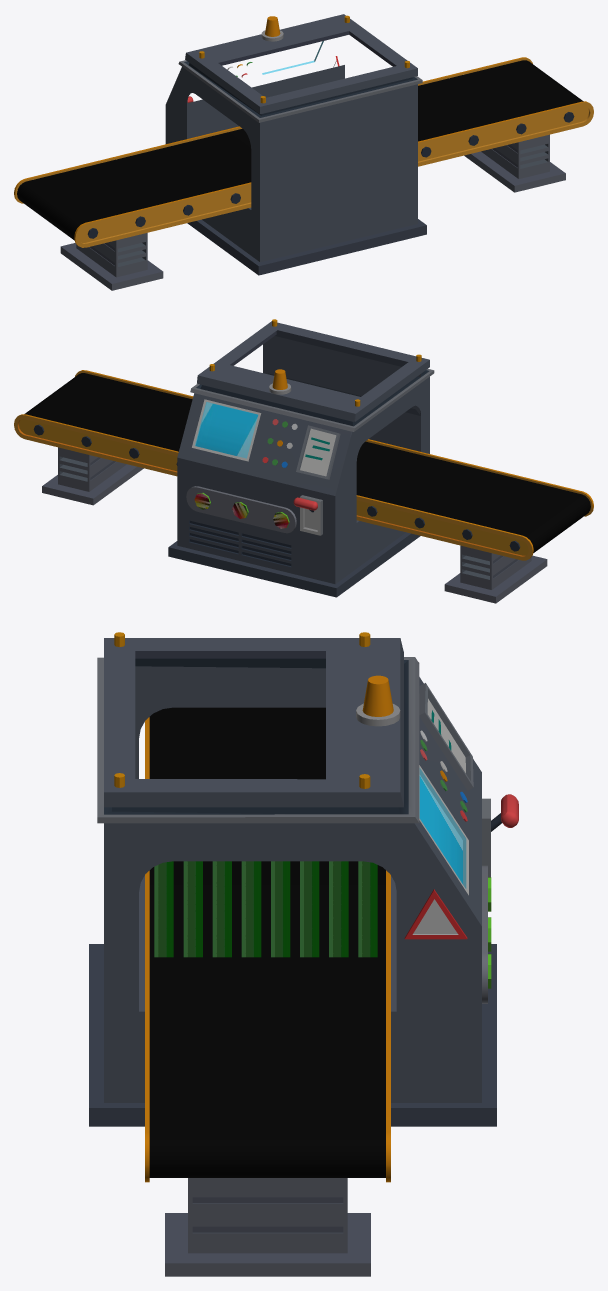
The model's file is conveyor-transformed.glb.
3 views of the same model, one above another, from view 1: azimuth 30°, elevation 25°; view 2: azimuth 150°, elevation 25°; view 3: azimuth 270°, elevation 25° (orthographic). The views are drawn at different scales.
Visible parts, largest first — view 1: AlertOrange.005, PaletArrow.005; view 2: AlertOrange.005, PaletArrow.005, Pc.006; view 3: AlertOrange.005, PaletArrow.005, Pc.006.
Part boxes in pixels (left/top/right/bottom): AlertOrange.005: left=14, top=14, right=593, bottom=290; PaletArrow.005: left=17, top=60, right=583, bottom=240; AlertOrange.005: left=14, top=319, right=593, bottom=603; PaletArrow.005: left=24, top=373, right=590, bottom=552; Pc.006: left=194, top=402, right=258, bottom=458; AlertOrange.005: left=89, top=632, right=518, bottom=1276; PaletArrow.005: left=149, top=707, right=385, bottom=1177; Pc.006: left=419, top=768, right=466, bottom=888.
Size of the model in its own units: 8.11 by 2.74 by 2.91.
Materials: 3 (2 with a texture image).
